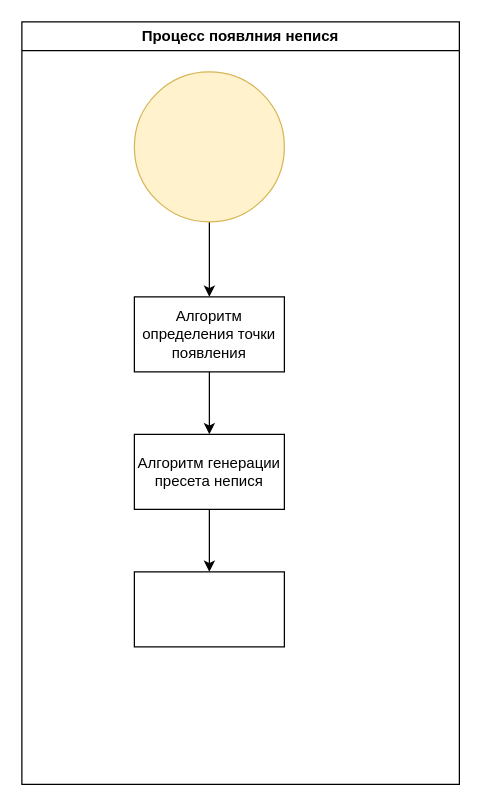
Image size: 481x806. Some labels were removed from this diagram. The centre of each missing label's shape, as x and y in pixels:
"Алгоритм непосредственно появления" belongs at point 208,609.
"Алгоритм отслеживания популяции" belongs at point 208,146.
